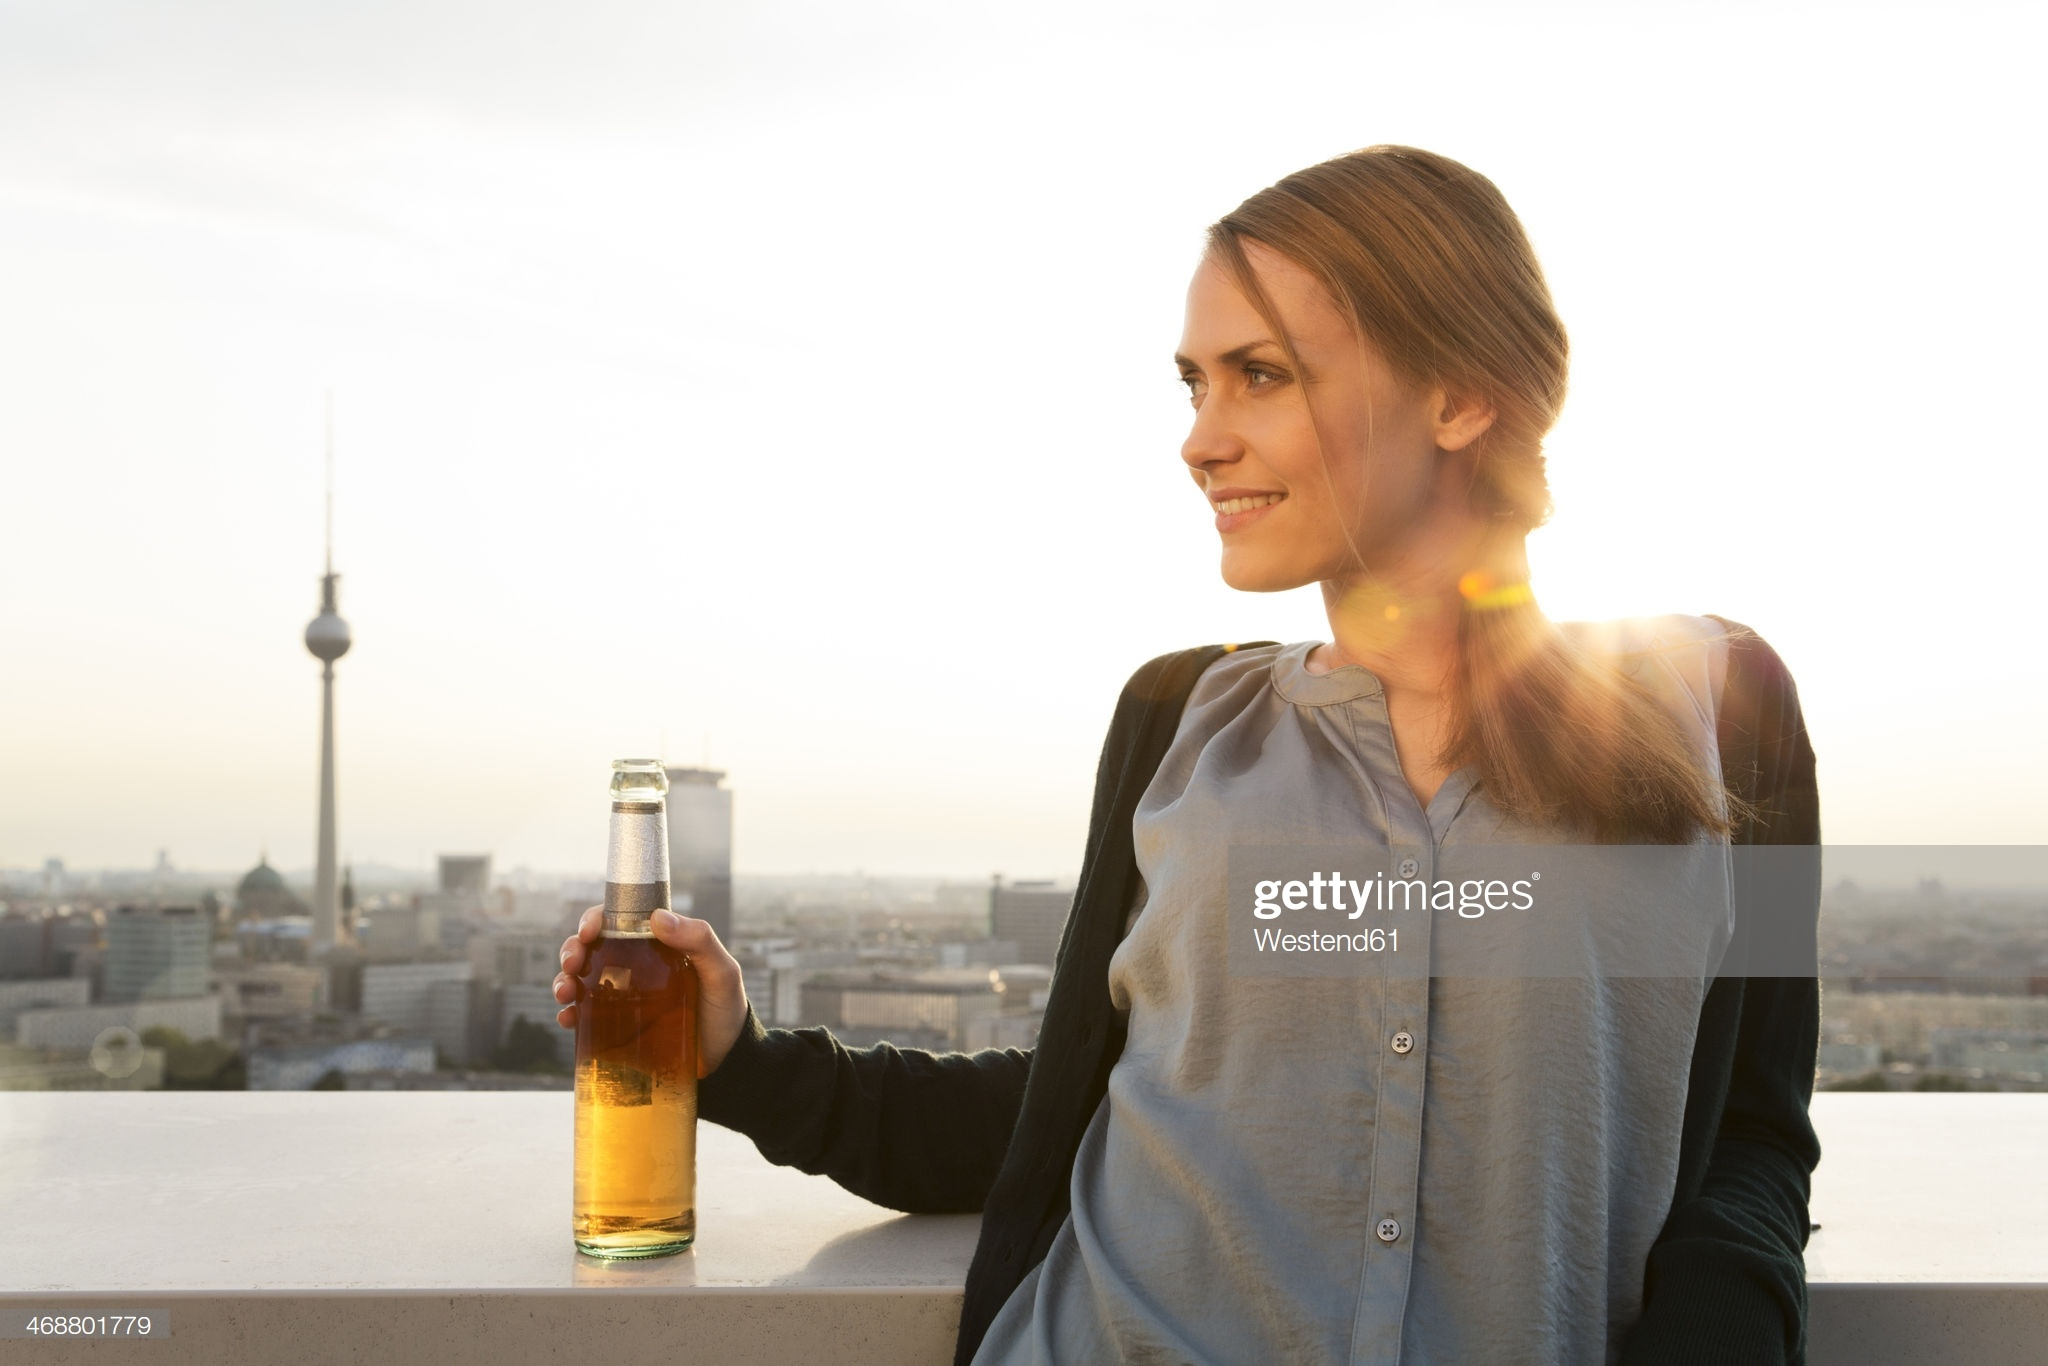beerBottle: (573, 768, 696, 1249)
